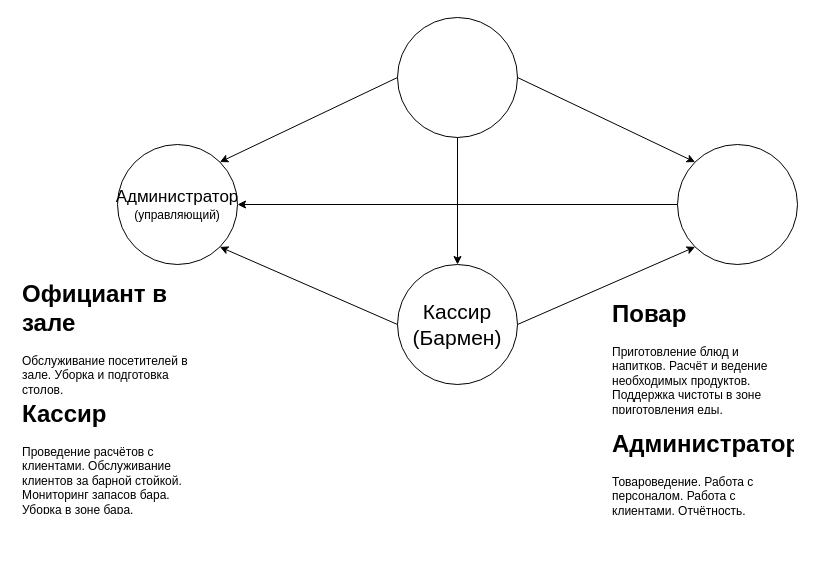
Some shapes in this 817 by 562 pixel diagram are drawn without their labels. Here are the shapes that lost their labels. From the top down, the centre of each, then its label:
At (457,77): "Официант в зале".
At (737,204): "Повар".
